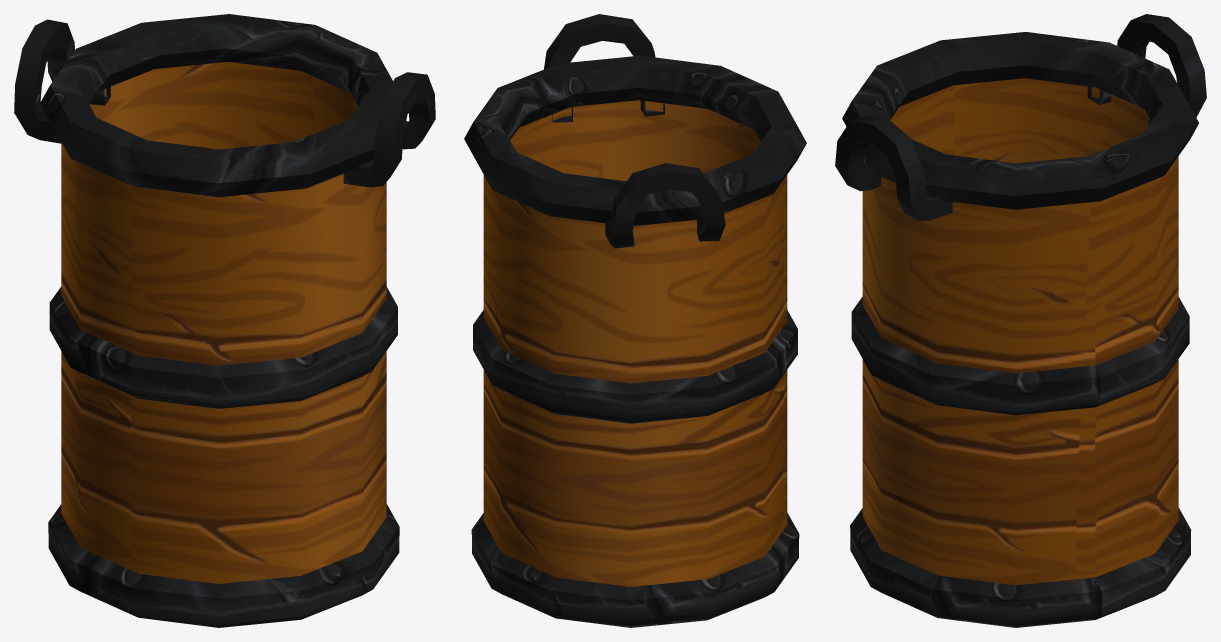
Rendered from Lemari Peralatan Dapur 3.fbx.
3 views of the same model, side by side, from view 1: azimuth 30°, elevation 25°; view 2: azimuth 150°, elevation 25°; view 3: azimuth 270°, elevation 25° (orthographic). The views are drawn at different scales.
Parts seen in each view (by area): view 1: Barrel 1.002; view 2: Barrel 1.002; view 3: Barrel 1.002.
Part boxes in pixels (left/top/right/bottom): Barrel 1.002: left=14, top=14, right=435, bottom=627; Barrel 1.002: left=464, top=14, right=806, bottom=627; Barrel 1.002: left=835, top=14, right=1206, bottom=627.
Size of the model in its own units: 121 by 183 by 125.
Materials: 1 (1 with a texture image).
